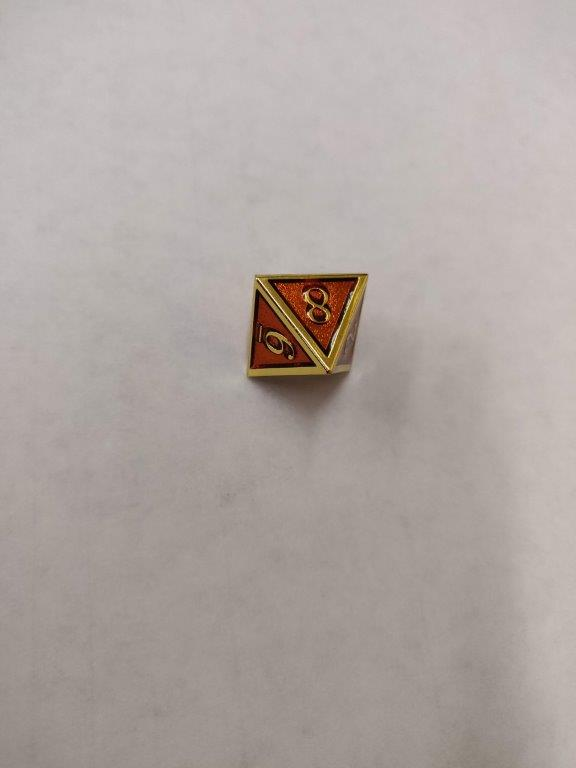d8-8: (247, 270, 366, 384)
